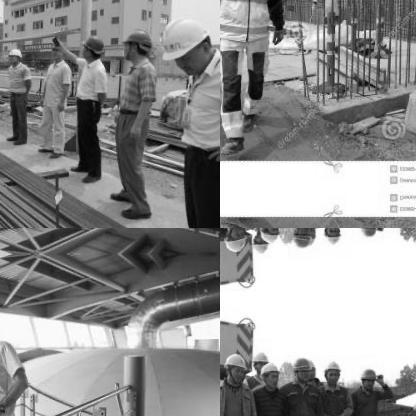Helmet: (162, 13, 214, 75), (120, 25, 152, 61), (80, 32, 104, 62), (289, 354, 313, 382), (223, 350, 245, 380), (222, 228, 246, 253), (320, 356, 340, 384), (289, 228, 314, 249), (260, 359, 280, 385), (48, 37, 66, 61), (249, 350, 268, 372), (319, 228, 341, 247), (249, 230, 268, 252), (359, 366, 379, 386), (260, 228, 281, 244), (5, 46, 23, 64), (359, 228, 380, 237)
